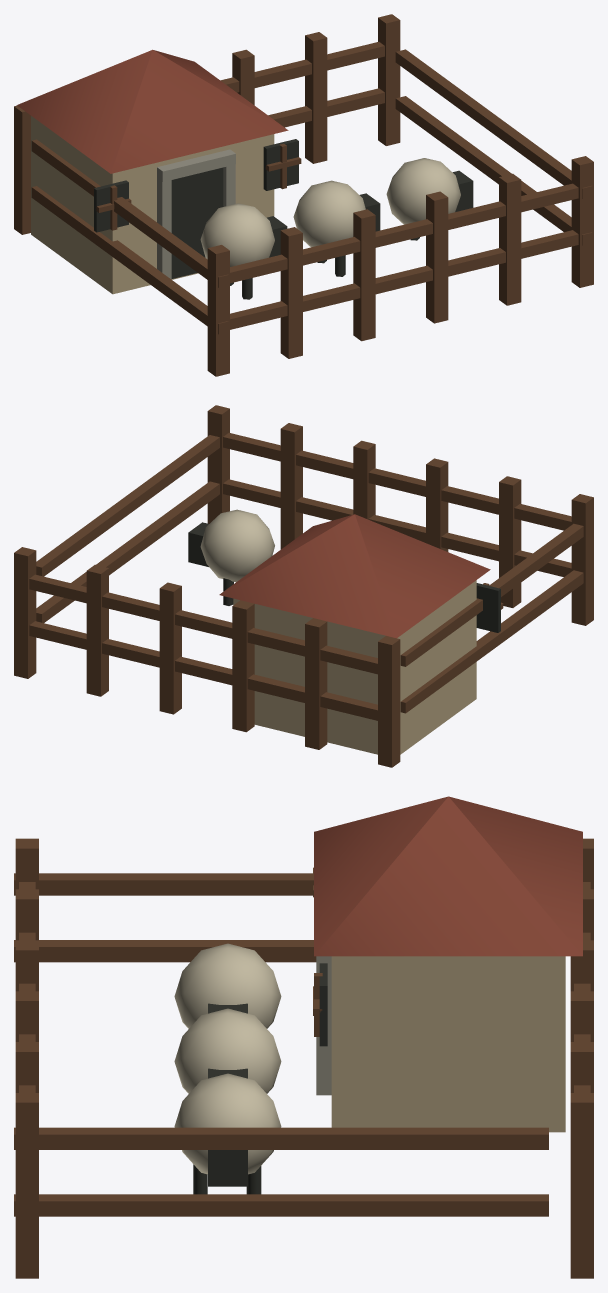
File: custom-imp-pasture.glb
3 views of the same model, one above another, from view 1: azimuth 30°, elevation 25°; view 2: azimuth 150°, elevation 25°; view 3: azimuth 270°, elevation 25° (orthographic). The views are drawn at different scales.
Visible parts, largest first — view 1: custom-imp-pasture; view 2: custom-imp-pasture; view 3: custom-imp-pasture.
Boxes of the visible parts, x1,y1,x2,y2 form: custom-imp-pasture: [14, 14, 593, 376]; custom-imp-pasture: [14, 405, 593, 767]; custom-imp-pasture: [14, 796, 593, 1278].
Size of the model in its own units: 1 by 0.4765 by 0.8966.
